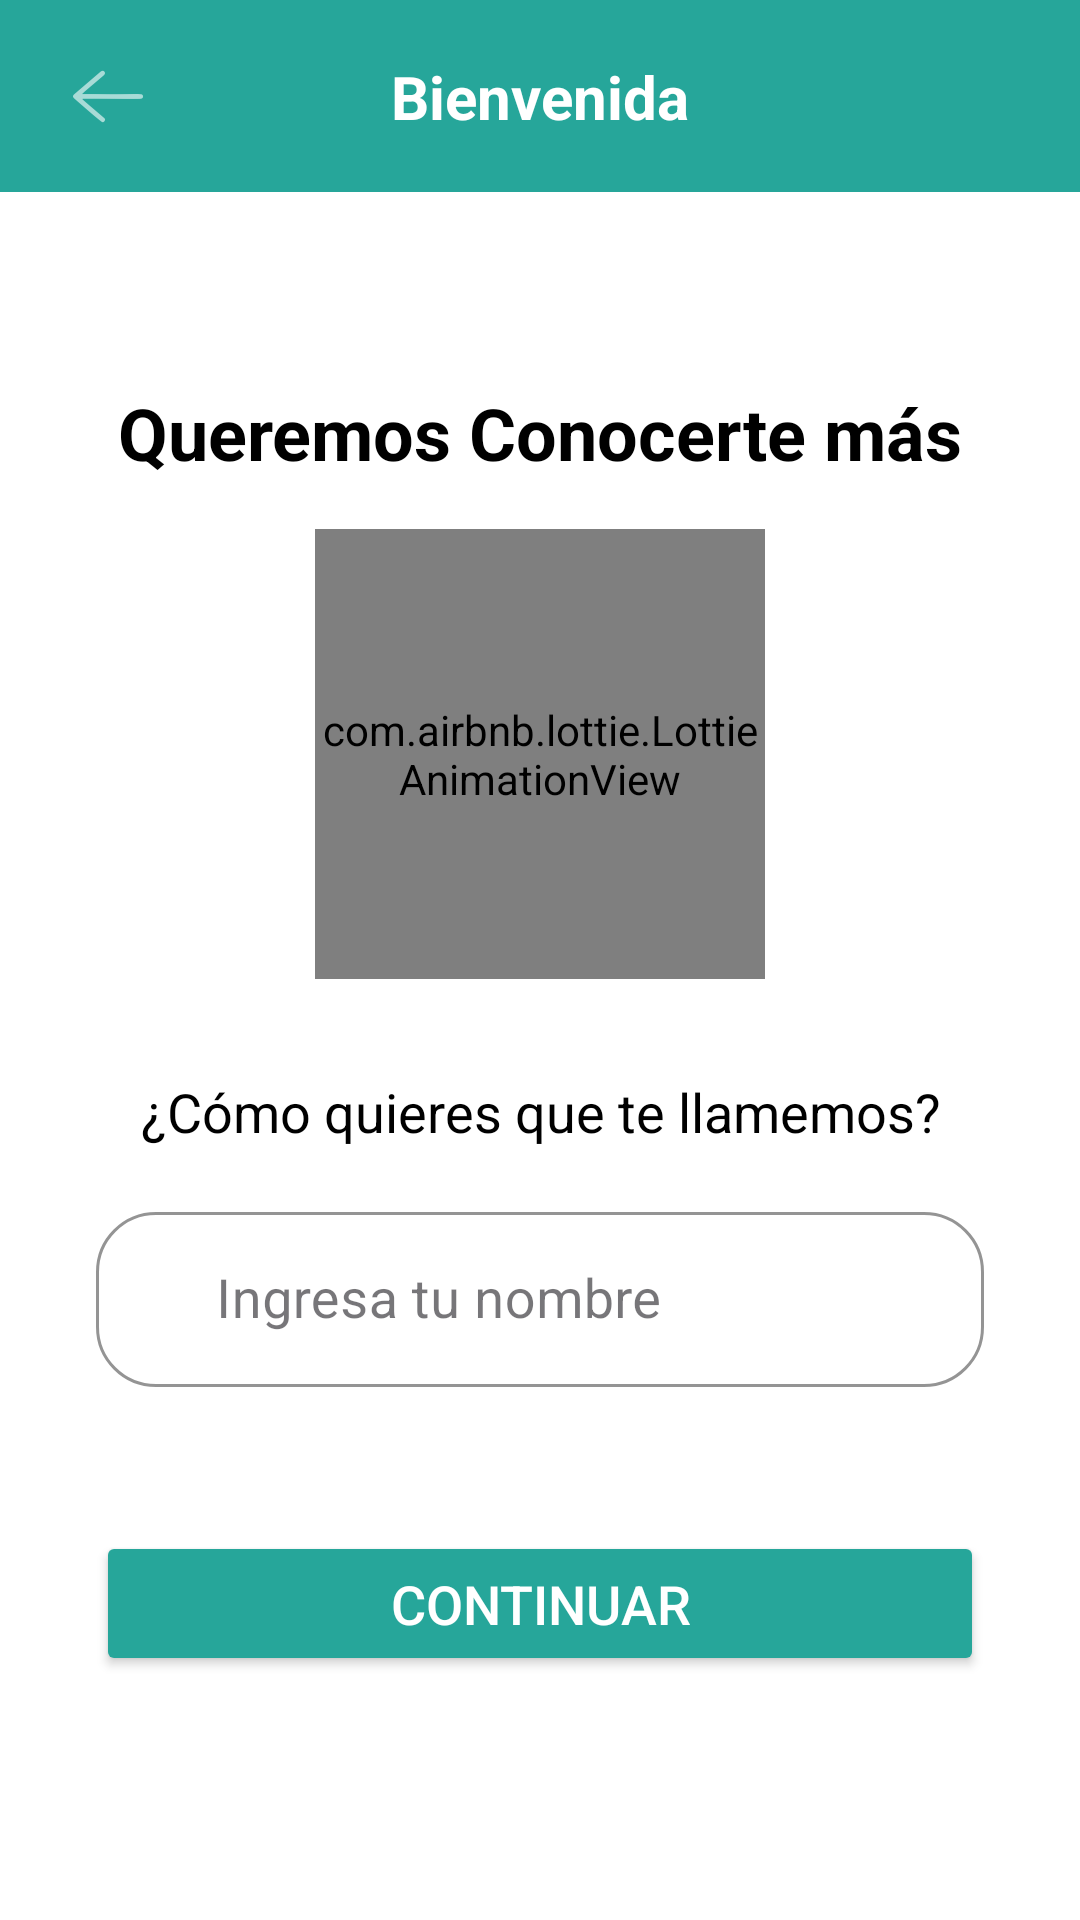

Icons on this 1080 × 1920 Android screen, each with the point to tap as (x=x, y=y):
Botón para cerrar sesión y volver a Login: (x=108, y=96)
